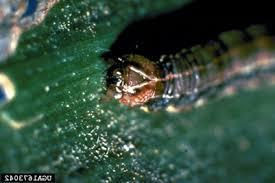fallarmy_worm: (108, 15, 275, 112)
